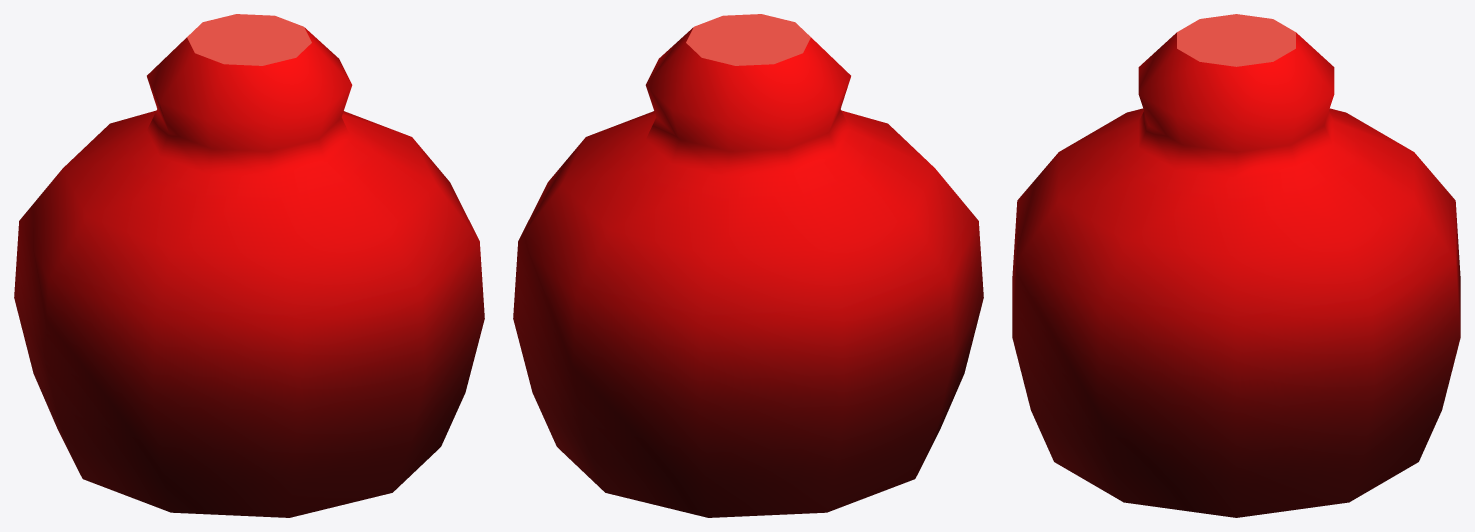
The model's file is Potion_D_L_Liquid.fbx.
The picture shows the model from 3 angles, left to right: view 1: azimuth 30°, elevation 25°; view 2: azimuth 150°, elevation 25°; view 3: azimuth 270°, elevation 25°; orthographic projection.
Visible parts, largest first — view 1: Potion_D_L_Liquid; view 2: Potion_D_L_Liquid; view 3: Potion_D_L_Liquid.
Part boxes in pixels (box(x1,y1,x2,y2)): Potion_D_L_Liquid: box(14, 14, 484, 517); Potion_D_L_Liquid: box(513, 14, 983, 517); Potion_D_L_Liquid: box(1012, 14, 1460, 517).
Bounding box in the file's own units: 56.19 × 52.18 × 53.44.
